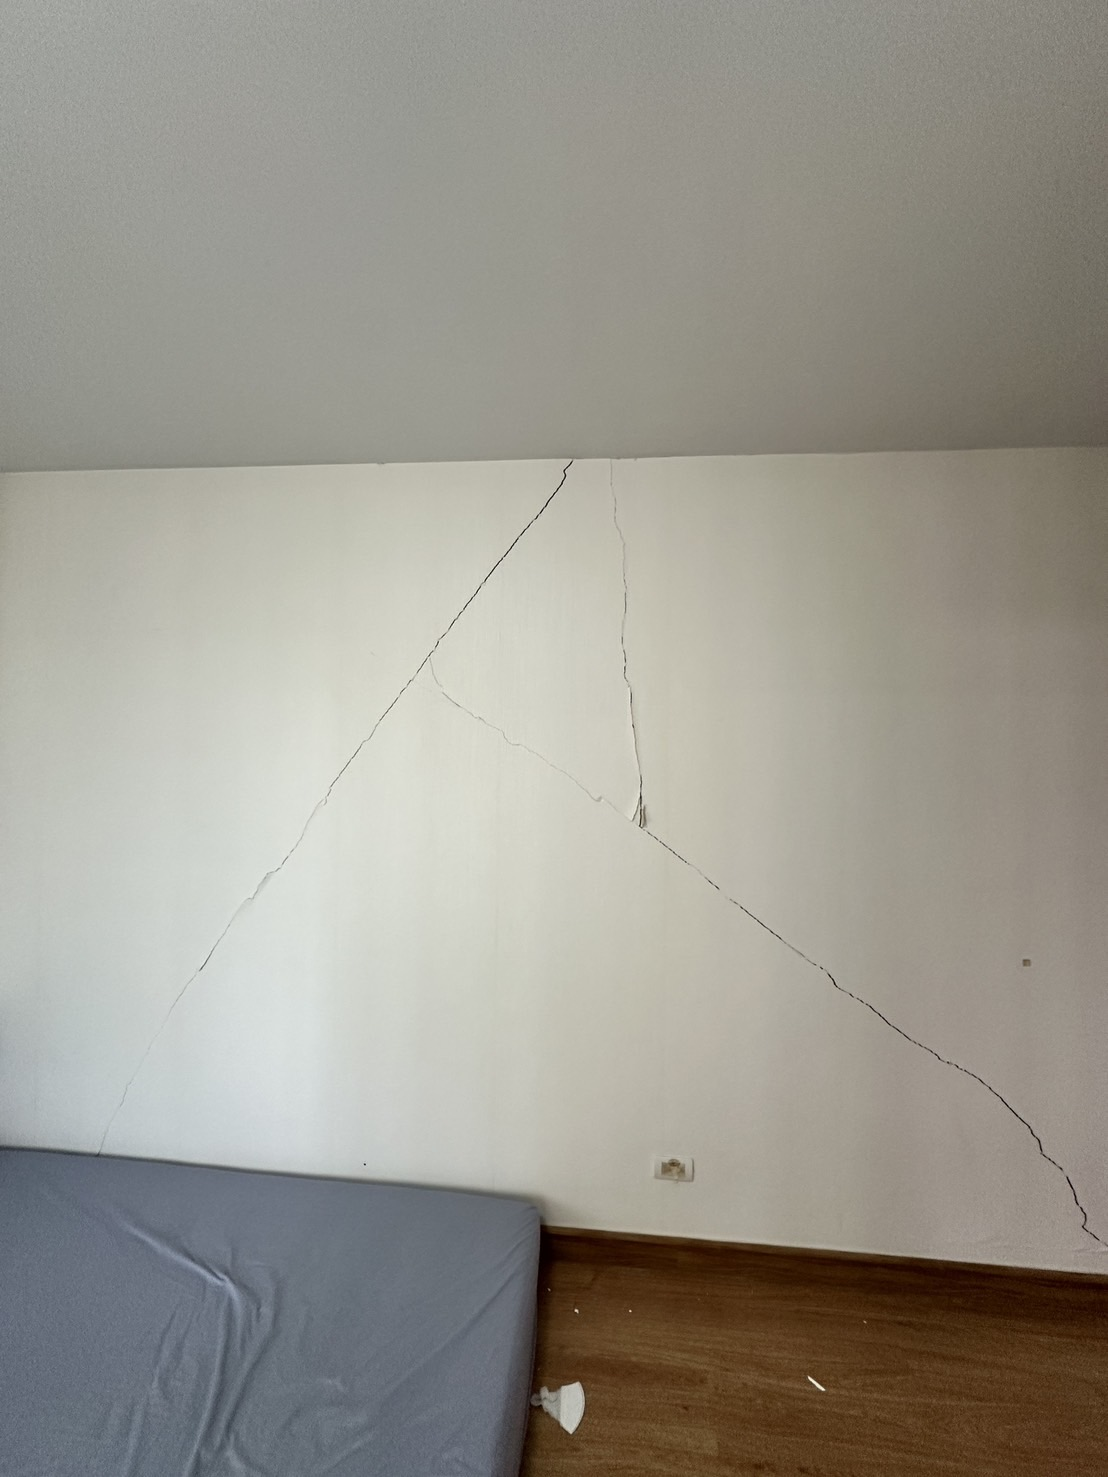Low: (74, 445, 1108, 1258)
